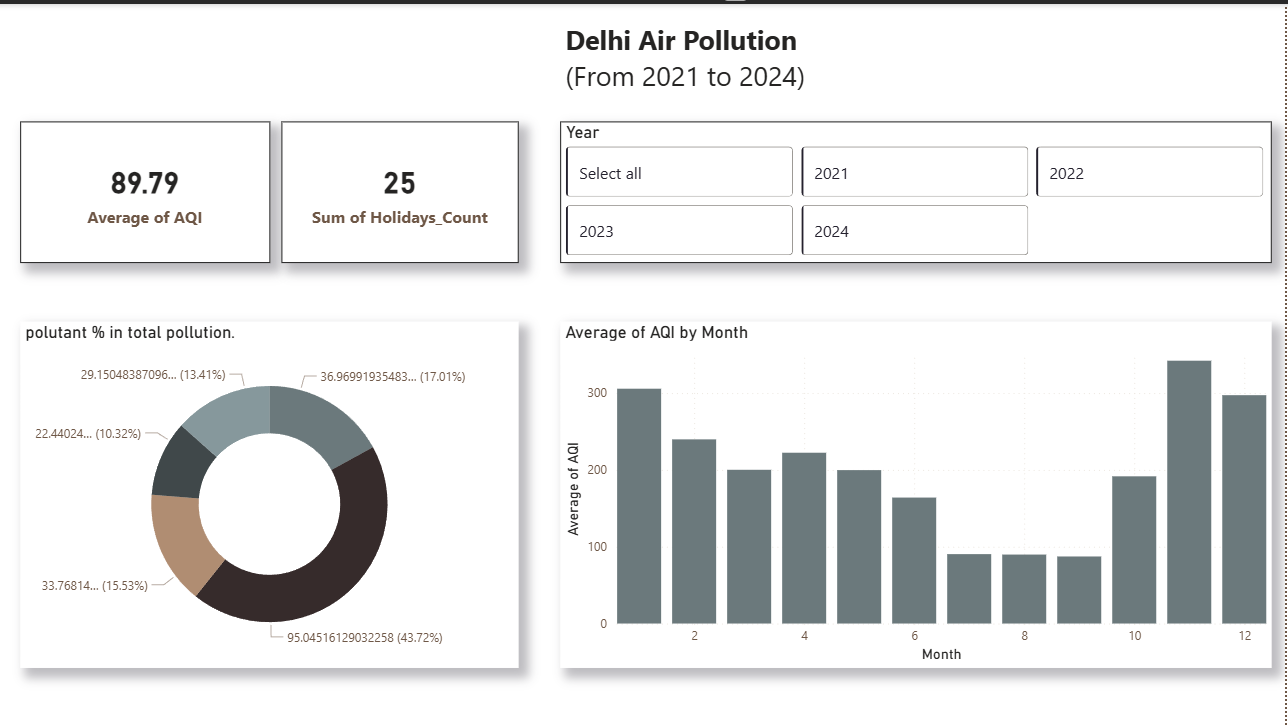

Layout of this report page (visuals, bound fields, positions):
{"tool":"powerbi","page":{"name":"Page 1","canvas":[1280,720],"ordinal":0},"visuals":[{"type":"donutChart","title":"polutant % in  total pollution.","fields":{"Y":["Avg(Table11.Ozone)","Avg(Table11.PM10)","Avg(Table11.PM2.5)","Avg(Table11.SO2)","Avg(Table11.NO2)"]},"box":[21.1,316,496.3,344.6],"z":2},{"type":"card","fields":{"Values":["Avg(Table11.AQI)"]},"box":[21.1,116.9,248.8,140.6],"z":3},{"type":"clusteredColumnChart","fields":{"Category":["Table11.Month"],"Y":["Avg(Table11.AQI)"]},"box":[558.5,316,707.8,344.6],"z":4},{"type":"textbox","box":[558.5,12.4,248.8,92.1],"z":5},{"type":"card","fields":{"Values":["Sum(Table11.Holidays_Count)"]},"box":[281.1,116.9,236.4,140.6],"z":6},{"type":"advancedSlicerVisual","fields":{"Values":["Table11.Year"]},"box":[558.5,116.9,707.8,140.6],"z":7}]}

Visuals, with their boxes in screenshot pixels (x1, y1, x2, y2), scaled from the page's 1280x720 canvas onto the 1288x726 screenshot:
"polutant % in  total pollution." donutChart: l=21, t=319, r=521, b=666
card - Avg(Table11.AQI): l=21, t=118, r=272, b=260
clusteredColumnChart - Table11.Month x Avg(Table11.AQI): l=562, t=319, r=1274, b=666
textbox: l=562, t=13, r=812, b=105
card - Sum(Table11.Holidays_Count): l=283, t=118, r=521, b=260
advancedSlicerVisual - Table11.Year: l=562, t=118, r=1274, b=260
